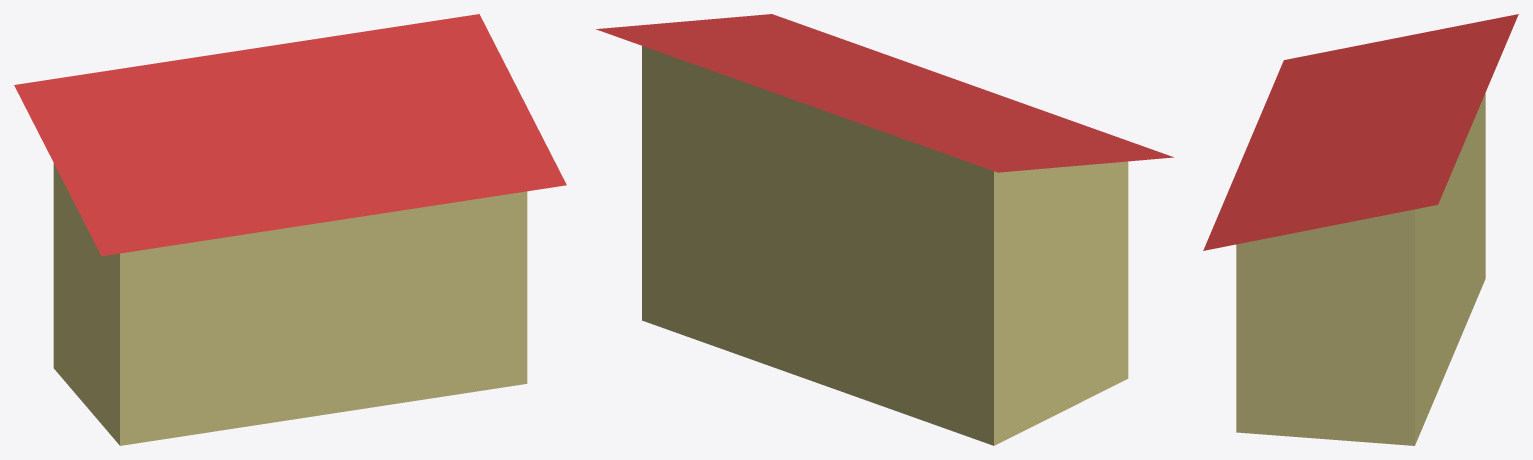
3 views of the same model, side by side, from view 1: azimuth 30°, elevation 25°; view 2: azimuth 150°, elevation 25°; view 3: azimuth 270°, elevation 25° (orthographic). The views are drawn at different scales.
Size of the model in its own units: 17.19 by 10.99 by 9.81.
